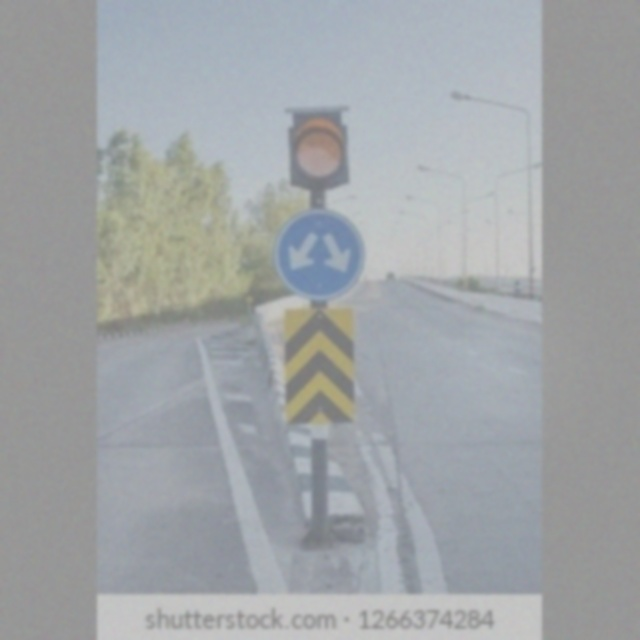Pass_Either_Side: (274, 208, 369, 300)
